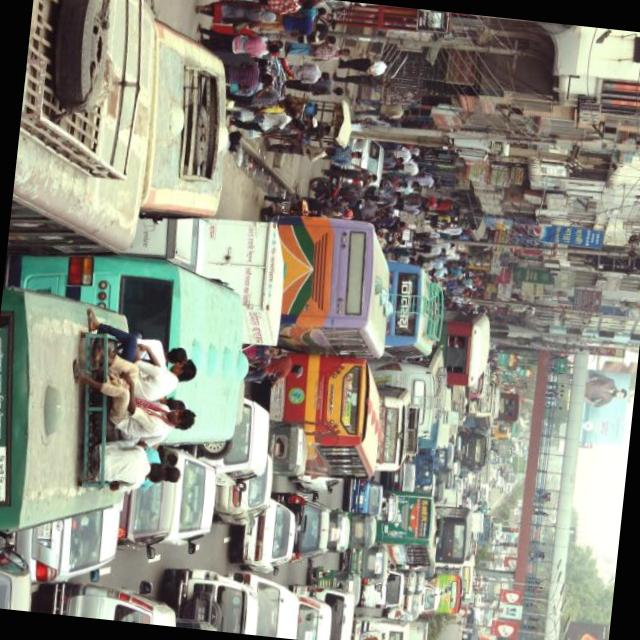bus: (7, 0, 162, 252), (0, 283, 127, 536), (138, 51, 220, 208), (281, 210, 378, 332), (6, 244, 179, 304), (190, 291, 250, 438), (306, 354, 364, 444), (388, 490, 438, 562), (447, 306, 488, 382), (412, 346, 442, 436), (422, 386, 462, 452), (379, 387, 409, 470), (388, 262, 418, 343), (434, 503, 470, 562), (380, 350, 437, 386), (464, 378, 500, 429), (454, 423, 492, 468), (354, 611, 411, 639), (273, 422, 303, 470), (438, 565, 464, 617), (470, 360, 492, 400), (498, 389, 522, 423), (492, 436, 514, 458), (481, 578, 503, 598), (494, 417, 514, 439), (482, 513, 494, 544), (480, 596, 496, 618), (512, 452, 526, 471), (512, 414, 522, 436)
car: (34, 506, 120, 588), (168, 564, 258, 632), (116, 480, 173, 560), (238, 495, 294, 573), (168, 452, 212, 550), (216, 452, 274, 525), (280, 494, 327, 562), (343, 137, 388, 185), (0, 533, 29, 607), (347, 474, 382, 512), (383, 454, 416, 492), (292, 472, 338, 498), (461, 604, 483, 640), (404, 592, 421, 619), (470, 470, 480, 493), (495, 474, 505, 486)
motorcycle: (248, 348, 306, 386), (309, 172, 342, 205), (266, 194, 314, 213)
truck: (50, 576, 176, 624), (192, 214, 279, 281), (294, 582, 358, 640), (230, 408, 268, 488), (250, 576, 295, 636), (359, 564, 404, 610), (291, 593, 334, 640), (412, 450, 436, 484), (420, 577, 441, 614), (406, 617, 431, 640), (471, 508, 486, 532), (501, 481, 513, 494)
